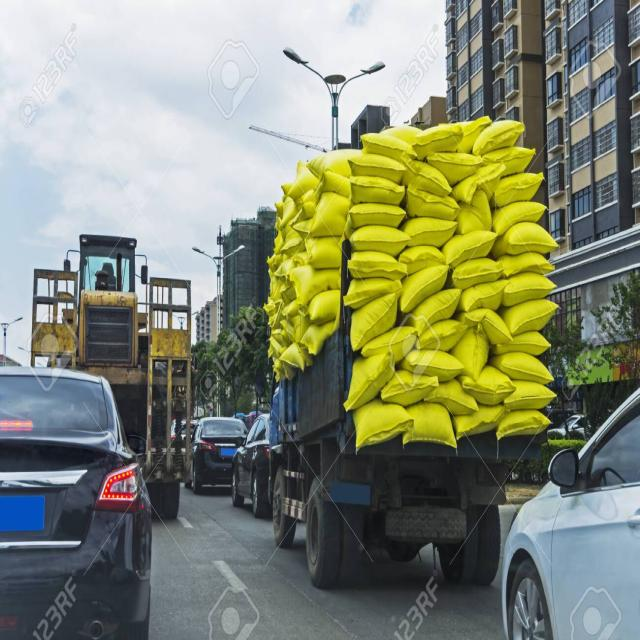overloaded_truck: (256, 131, 580, 479)
